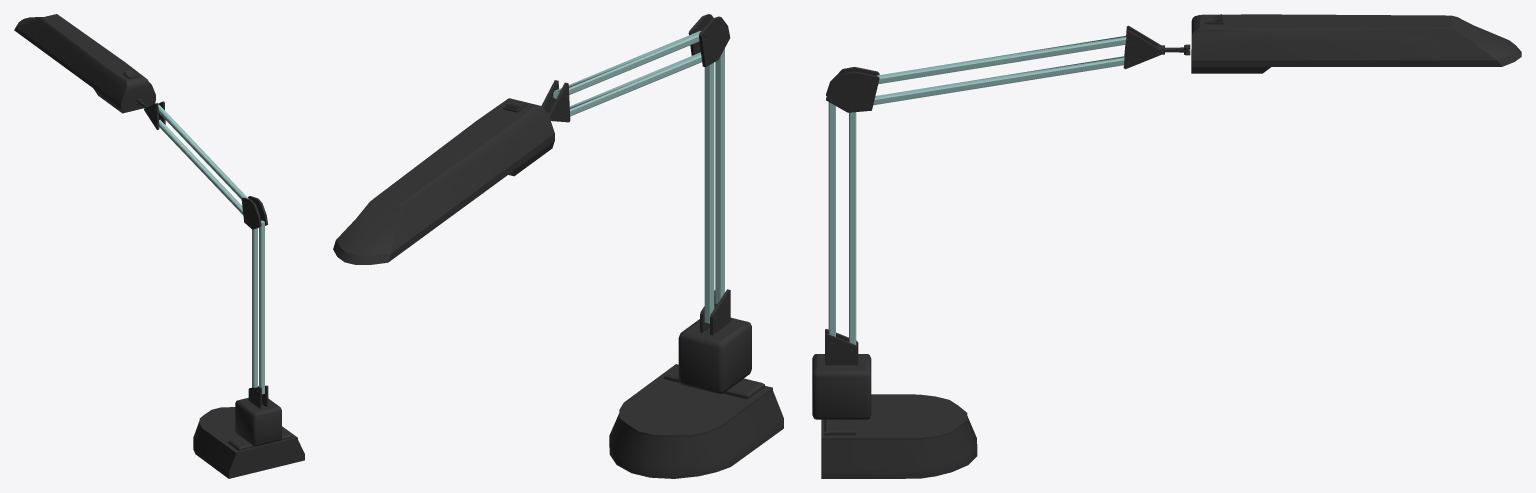
File: table_lamp.FBX
3 renders of one model, left to right at view 1: azimuth 30°, elevation 25°; view 2: azimuth 150°, elevation 25°; view 3: azimuth 270°, elevation 25°, orthographic. The views are drawn at different scales.
Visible parts, largest first — view 1: plafond, lamp_base, sticks, stick_holder; view 2: plafond, lamp_base, sticks, stick_holder; view 3: plafond, lamp_base, sticks, stick_holder.
Part boxes in pixels (box(x1,y1,x2,y2)): plafond: box(14, 14, 155, 113); lamp_base: box(193, 407, 304, 478); sticks: box(158, 104, 264, 394); stick_holder: box(144, 101, 281, 446); plafond: box(333, 98, 554, 264); lamp_base: box(609, 364, 783, 478); sticks: box(553, 31, 724, 323); stick_holder: box(541, 14, 751, 393); plafond: box(1156, 14, 1521, 73); lamp_base: box(821, 394, 977, 478); sticks: box(828, 35, 1126, 344); stick_holder: box(812, 25, 1163, 419).
Bounding box in the file's own units: 13 × 48.81 × 72.2.
